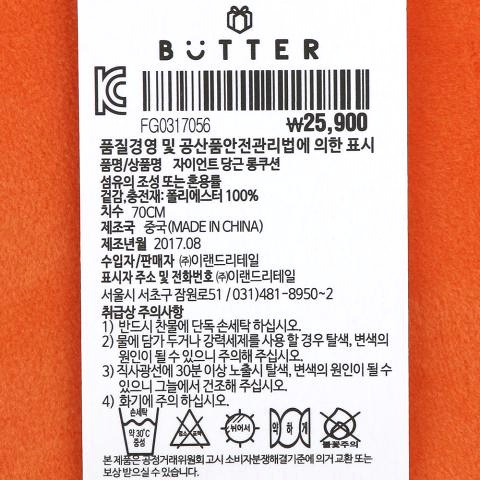dry_flat_in_shade: (221, 409, 259, 450)
hand_wash: (118, 406, 165, 457)
non_chlorine_bleach: (169, 404, 213, 452)
wring: (264, 401, 321, 450)
